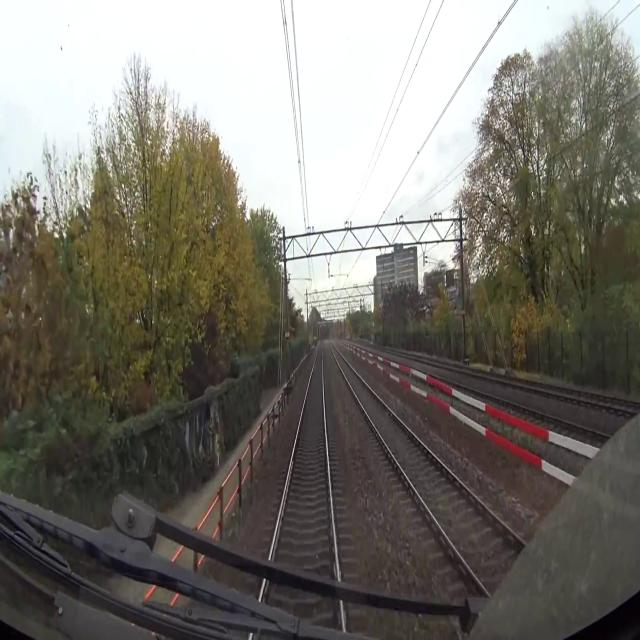rail-track: (333, 347, 518, 588), (278, 344, 333, 552), (527, 383, 626, 408)
